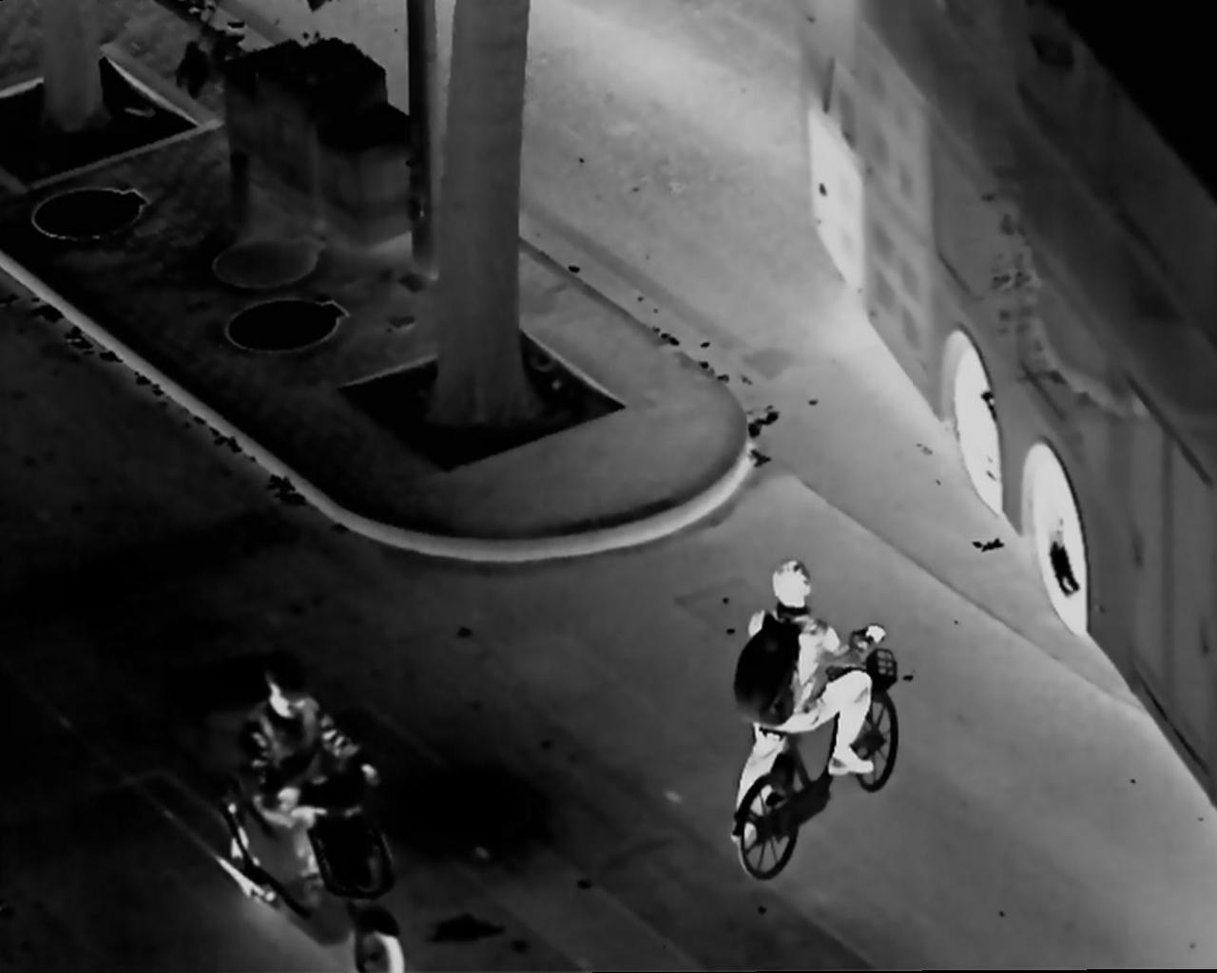person: (734, 557, 885, 859), (230, 659, 379, 933)
